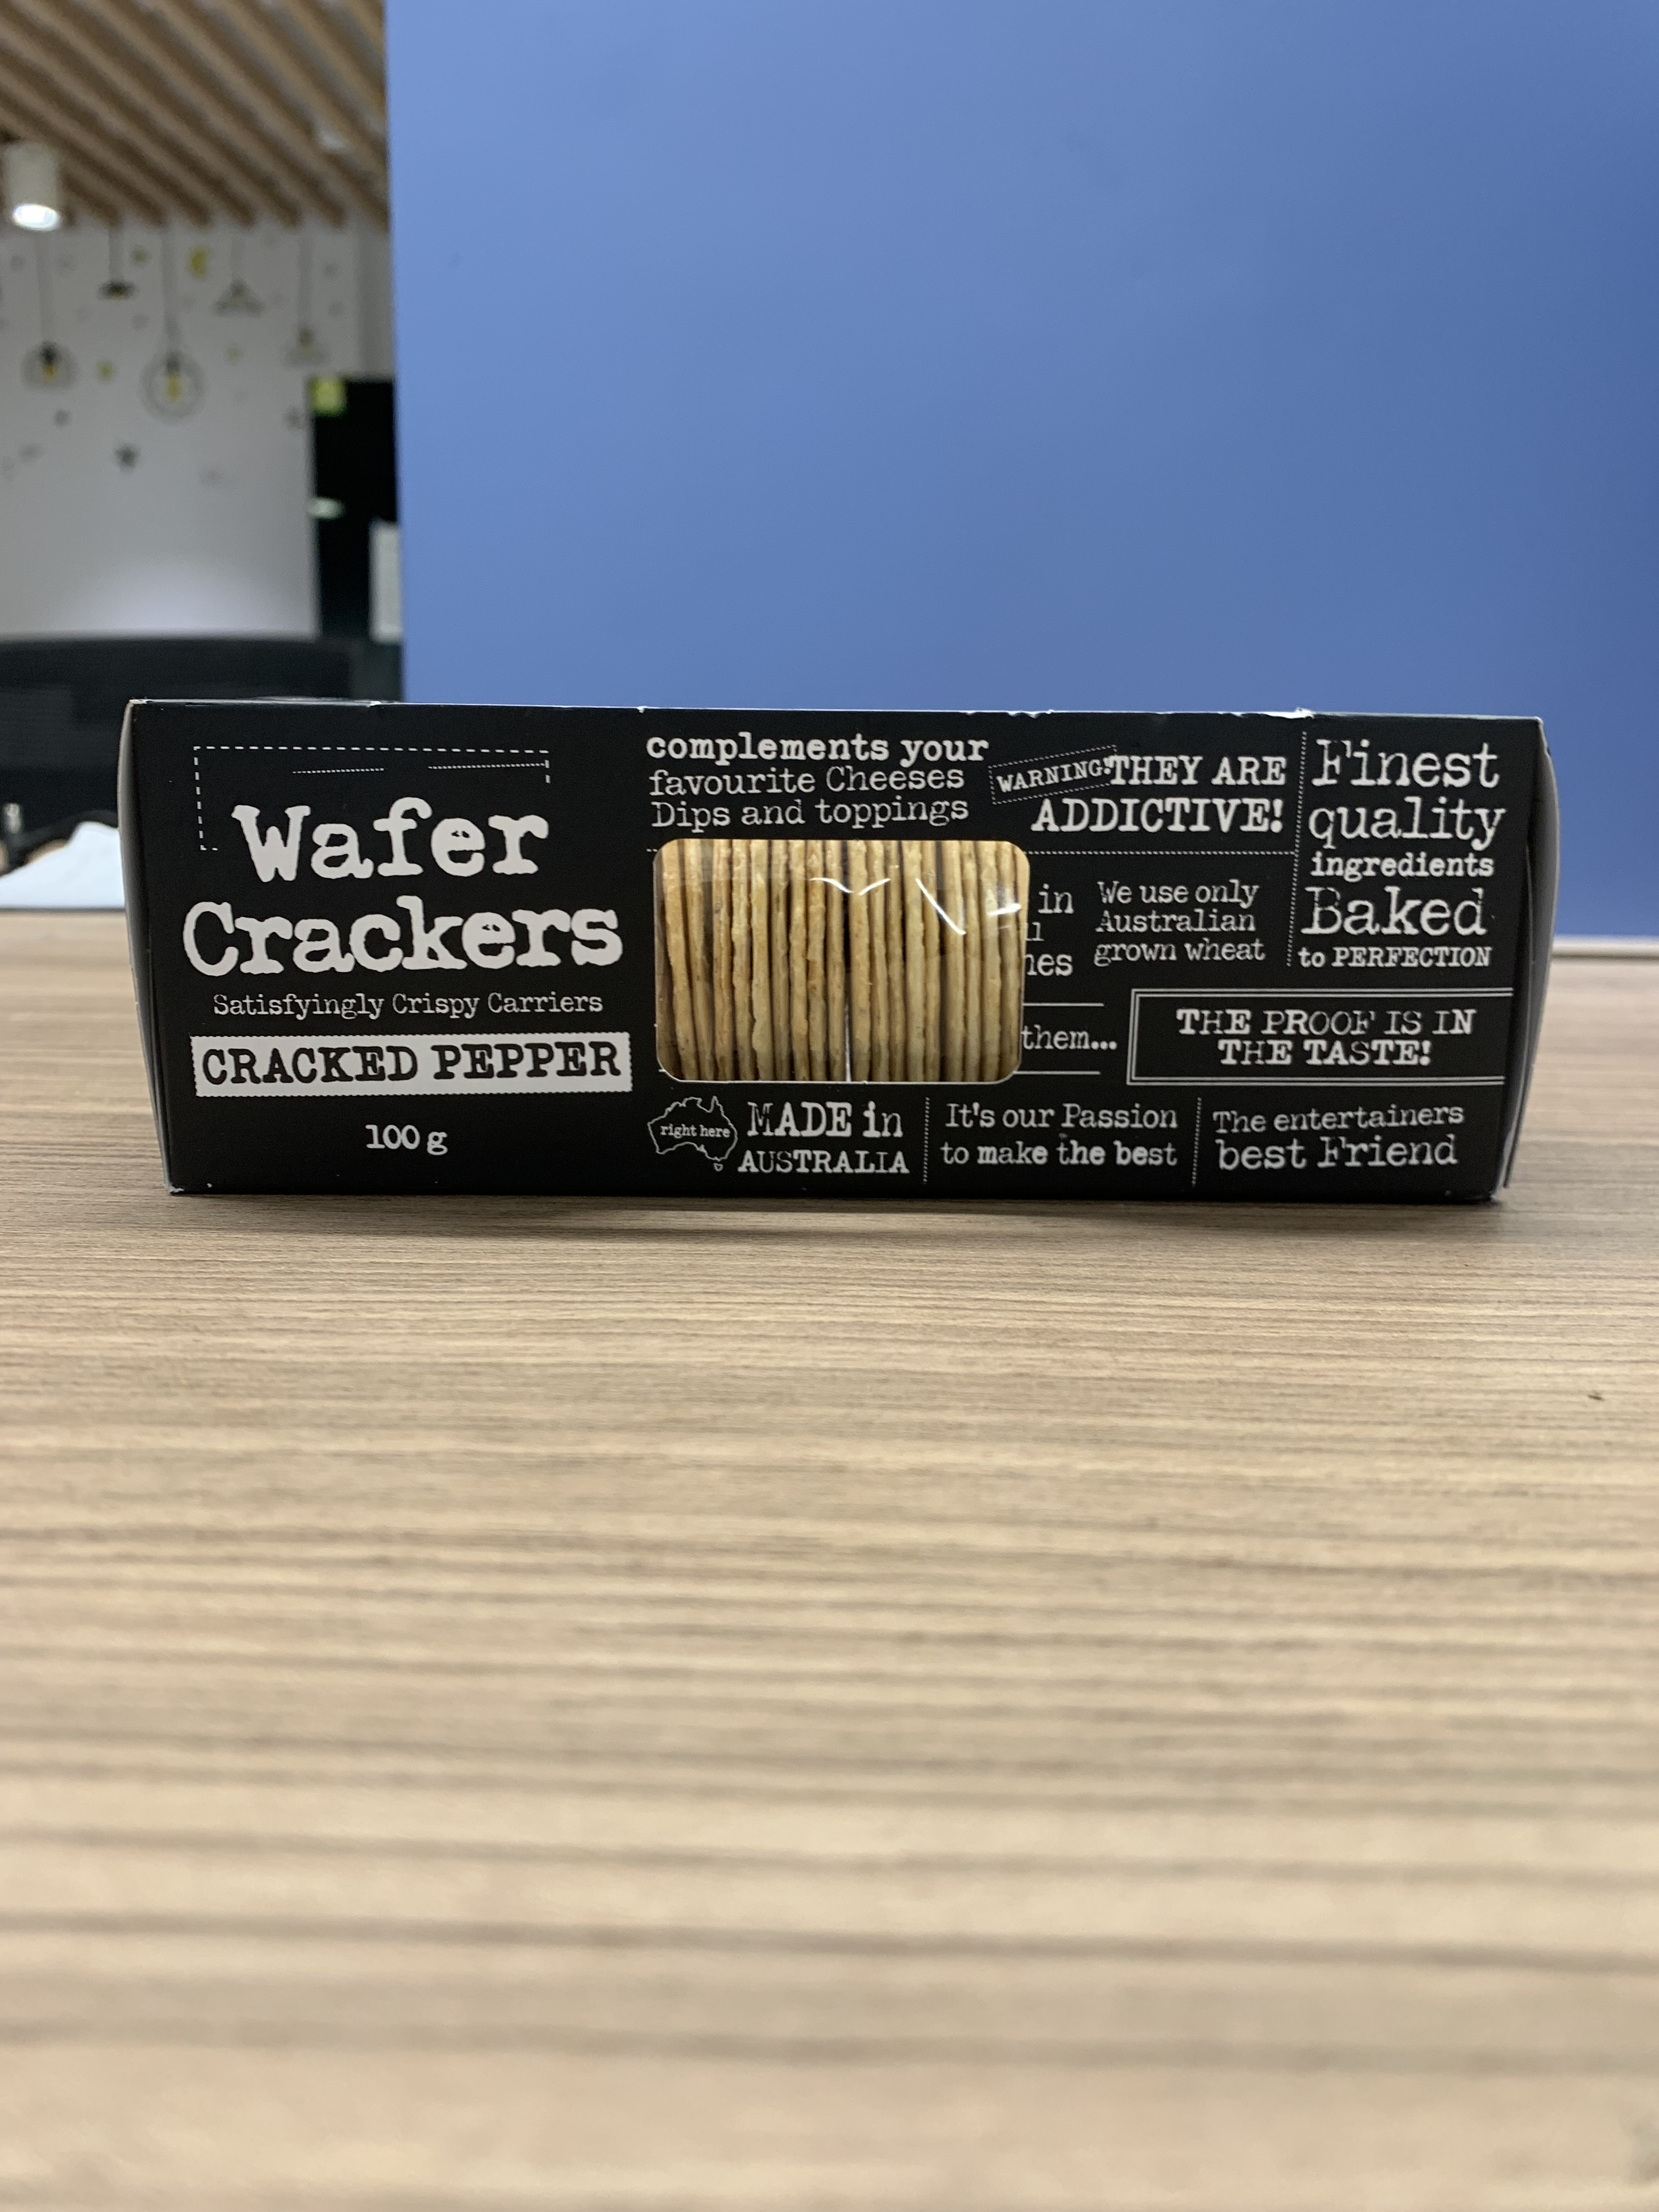crackers_100g-199g: (162, 702, 1506, 1188)
